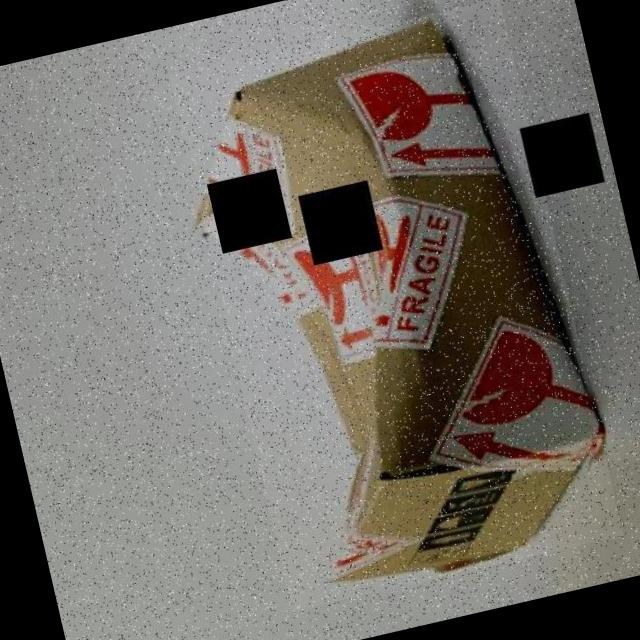box: (168, 0, 623, 610)
